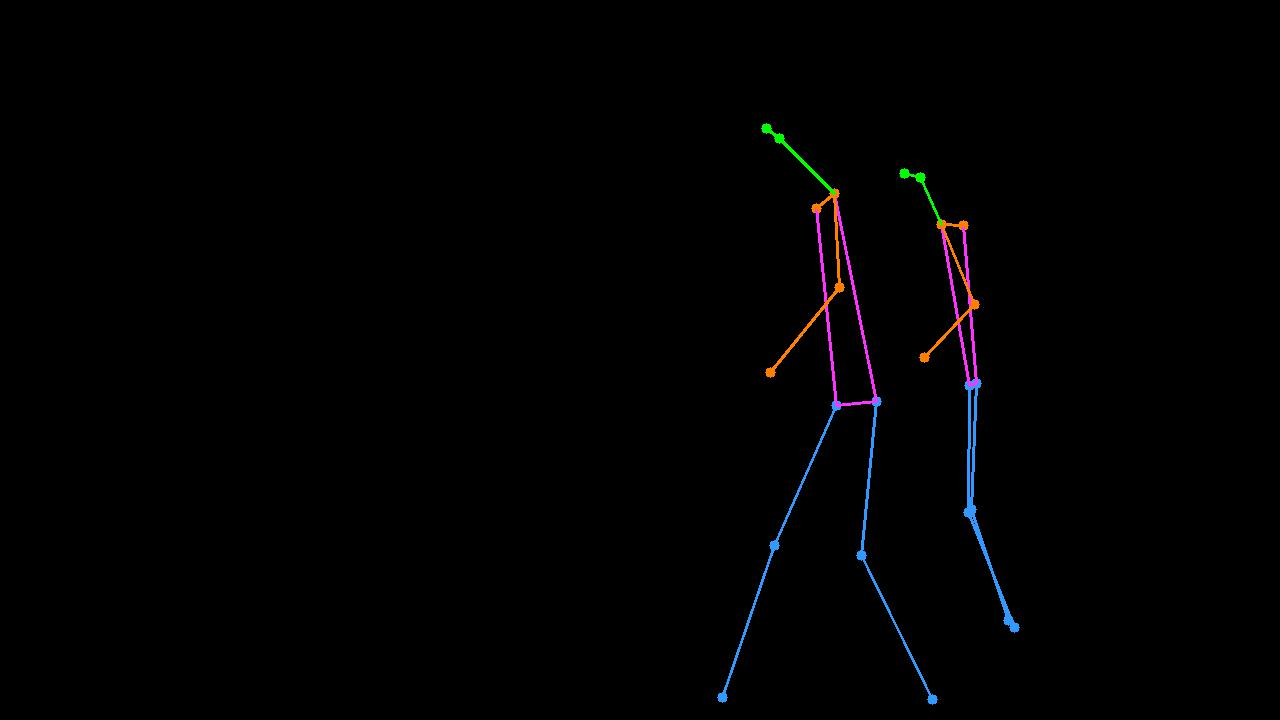normal: (703, 90, 954, 720), (896, 143, 1042, 656)
